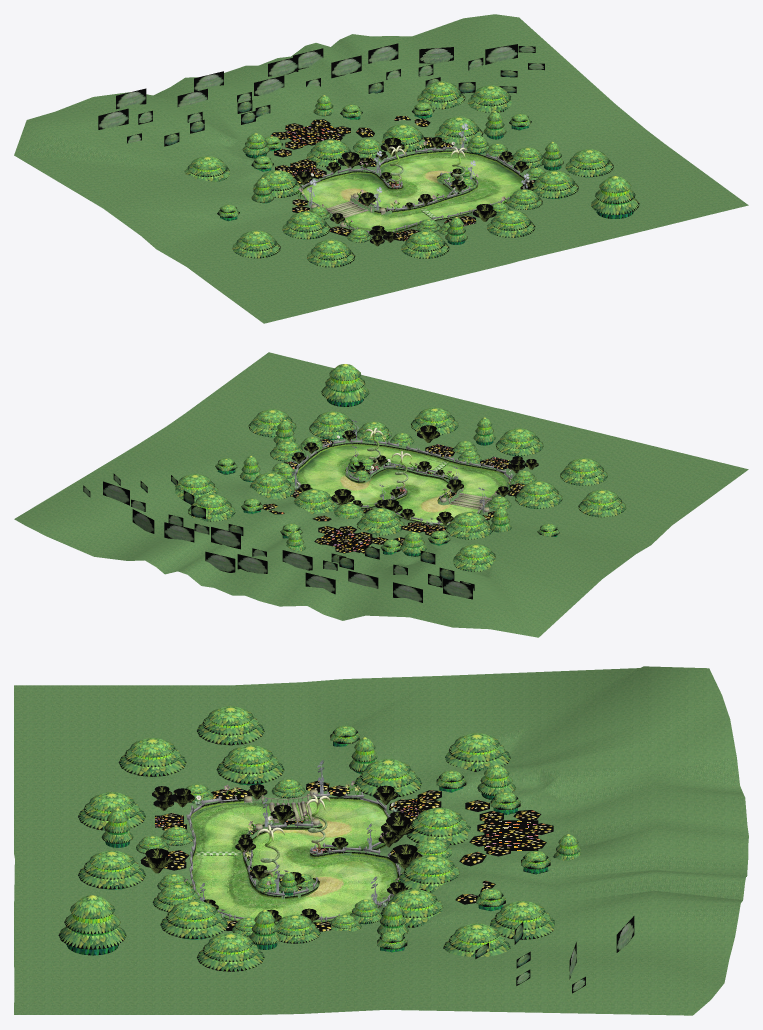
3 views of the same model, one above another, from view 1: azimuth 30°, elevation 25°; view 2: azimuth 150°, elevation 25°; view 3: azimuth 270°, elevation 25° (orthographic). The views are drawn at different scales.
Parts seen in each view (by area): view 1: KAR_Top_Ride_Grass-SKP--Grass, KAR_Top_Ride_Grass-SKP--Outer_Area_Leaves, KAR_Top_Ride_Grass-SKP--Road, KAR_Top_Ride_Grass-SKP--BG_Trees, KAR_Top_Ride_Grass-SKP--Flower_Patches_2, KAR_Top_Ride_Grass-SKP--Grass_Tufts, KAR_Top_Ride_Grass-SKP--Leaves_Edge, KAR_Top_Ride_Grass-SKP--BG_Bushes_2, KAR_Top_Ride_Grass-SKP--BG_Bushes, KAR_Top_Ride_Grass-SKP--Fences, KAR_Top_Ride_Grass-SKP--Grass_Border, KAR_Top_Ride_Grass-SKP--Flower_Patches (+1 smaller); view 2: KAR_Top_Ride_Grass-SKP--Grass, KAR_Top_Ride_Grass-SKP--Outer_Area_Leaves, KAR_Top_Ride_Grass-SKP--Road, KAR_Top_Ride_Grass-SKP--BG_Trees, KAR_Top_Ride_Grass-SKP--Grass_Tufts, KAR_Top_Ride_Grass-SKP--Flower_Patches_2, KAR_Top_Ride_Grass-SKP--Leaves_Edge, KAR_Top_Ride_Grass-SKP--BG_Bushes_2, KAR_Top_Ride_Grass-SKP--Fences, KAR_Top_Ride_Grass-SKP--BG_Bushes, KAR_Top_Ride_Grass-SKP--Grass_Border, KAR_Top_Ride_Grass-SKP--Flower_Patches; view 3: KAR_Top_Ride_Grass-SKP--Grass, KAR_Top_Ride_Grass-SKP--Outer_Area_Leaves, KAR_Top_Ride_Grass-SKP--Road, KAR_Top_Ride_Grass-SKP--Flower_Patches_2, KAR_Top_Ride_Grass-SKP--Grass_Tufts, KAR_Top_Ride_Grass-SKP--Leaves_Edge, KAR_Top_Ride_Grass-SKP--Fences, KAR_Top_Ride_Grass-SKP--Grass_Border, KAR_Top_Ride_Grass-SKP--Flower_Patches, KAR_Top_Ride_Grass-SKP--Vines, KAR_Top_Ride_Grass-SKP--Colored_Grass.
Part boxes in pixels (x1,y1,x2,y2): KAR_Top_Ride_Grass-SKP--Grass: (14,14,748,323); KAR_Top_Ride_Grass-SKP--Outer_Area_Leaves: (184,81,639,267); KAR_Top_Ride_Grass-SKP--Road: (302,153,523,232); KAR_Top_Ride_Grass-SKP--BG_Trees: (98,43,517,129); KAR_Top_Ride_Grass-SKP--Flower_Patches_2: (270,116,535,240); KAR_Top_Ride_Grass-SKP--Grass_Tufts: (295,137,534,246); KAR_Top_Ride_Grass-SKP--Leaves_Edge: (194,93,633,255); KAR_Top_Ride_Grass-SKP--BG_Bushes_2: (164,70,517,146); KAR_Top_Ride_Grass-SKP--BG_Bushes: (127,46,544,143); KAR_Top_Ride_Grass-SKP--Fences: (301,145,528,234); KAR_Top_Ride_Grass-SKP--Grass_Border: (302,150,526,234); KAR_Top_Ride_Grass-SKP--Flower_Patches: (284,124,475,241); KAR_Top_Ride_Grass-SKP--Grass: (14,352,748,637); KAR_Top_Ride_Grass-SKP--Outer_Area_Leaves: (175,364,626,571); KAR_Top_Ride_Grass-SKP--Road: (297,445,508,524); KAR_Top_Ride_Grass-SKP--BG_Trees: (103,481,472,602); KAR_Top_Ride_Grass-SKP--Grass_Tufts: (291,425,538,525); KAR_Top_Ride_Grass-SKP--Flower_Patches_2: (262,439,524,553); KAR_Top_Ride_Grass-SKP--Leaves_Edge: (181,377,615,559); KAR_Top_Ride_Grass-SKP--BG_Bushes_2: (140,475,454,580); KAR_Top_Ride_Grass-SKP--Fences: (295,439,512,524); KAR_Top_Ride_Grass-SKP--BG_Bushes: (83,473,474,590); KAR_Top_Ride_Grass-SKP--Grass_Border: (296,443,509,525); KAR_Top_Ride_Grass-SKP--Flower_Patches: (321,444,510,552); KAR_Top_Ride_Grass-SKP--Grass: (14,666,748,1015); KAR_Top_Ride_Grass-SKP--Outer_Area_Leaves: (58,706,581,971); KAR_Top_Ride_Grass-SKP--Road: (190,800,397,923); KAR_Top_Ride_Grass-SKP--Flower_Patches_2: (162,780,553,931); KAR_Top_Ride_Grass-SKP--Grass_Tufts: (140,784,422,922); KAR_Top_Ride_Grass-SKP--Leaves_Edge: (66,721,577,955); KAR_Top_Ride_Grass-SKP--Fences: (186,792,401,922); KAR_Top_Ride_Grass-SKP--Grass_Border: (190,797,398,923); KAR_Top_Ride_Grass-SKP--Flower_Patches: (155,798,538,866); KAR_Top_Ride_Grass-SKP--Vines: (256,794,330,876); KAR_Top_Ride_Grass-SKP--Colored_Grass: (199,760,377,904).
Bounding box in the file's own units: 96075 × 8858 × 84786.
22 materials, 22 textured.
